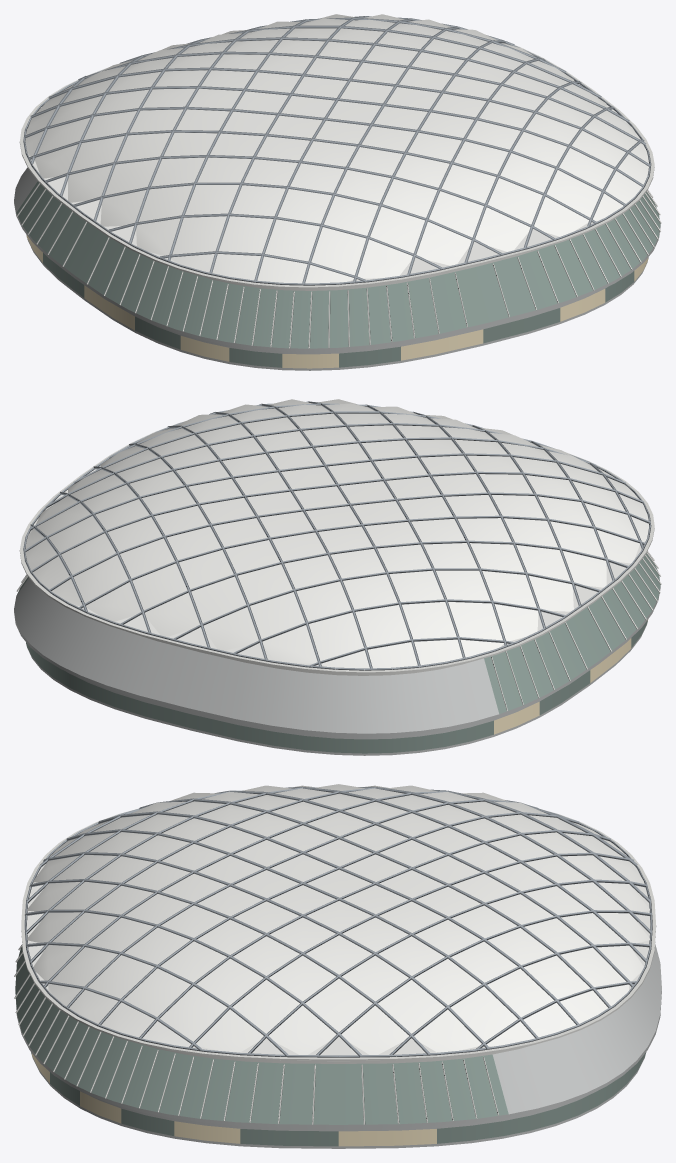
Rendered from tokyo-tokyo-dome.glb.
The picture shows the model from 3 angles, top to bottom: view 1: azimuth 30°, elevation 25°; view 2: azimuth 150°, elevation 25°; view 3: azimuth 270°, elevation 25°; orthographic projection. The views are drawn at different scales.
Visible parts, largest first — view 1: Tokyo Dome; view 2: Tokyo Dome; view 3: Tokyo Dome.
Boxes of the visible parts, bbox=[...] form: Tokyo Dome: bbox=[14, 14, 661, 370]; Tokyo Dome: bbox=[14, 399, 661, 755]; Tokyo Dome: bbox=[14, 784, 661, 1148].
Size of the model in its own units: 215 by 55.88 by 214.
